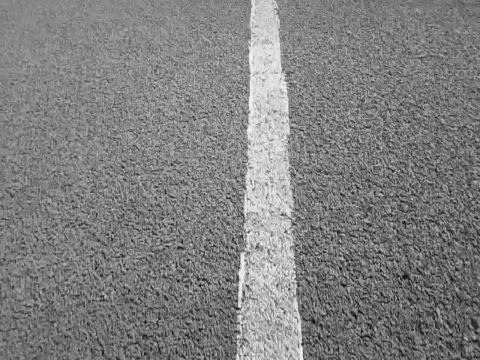Lines: (234, 0, 305, 360)
